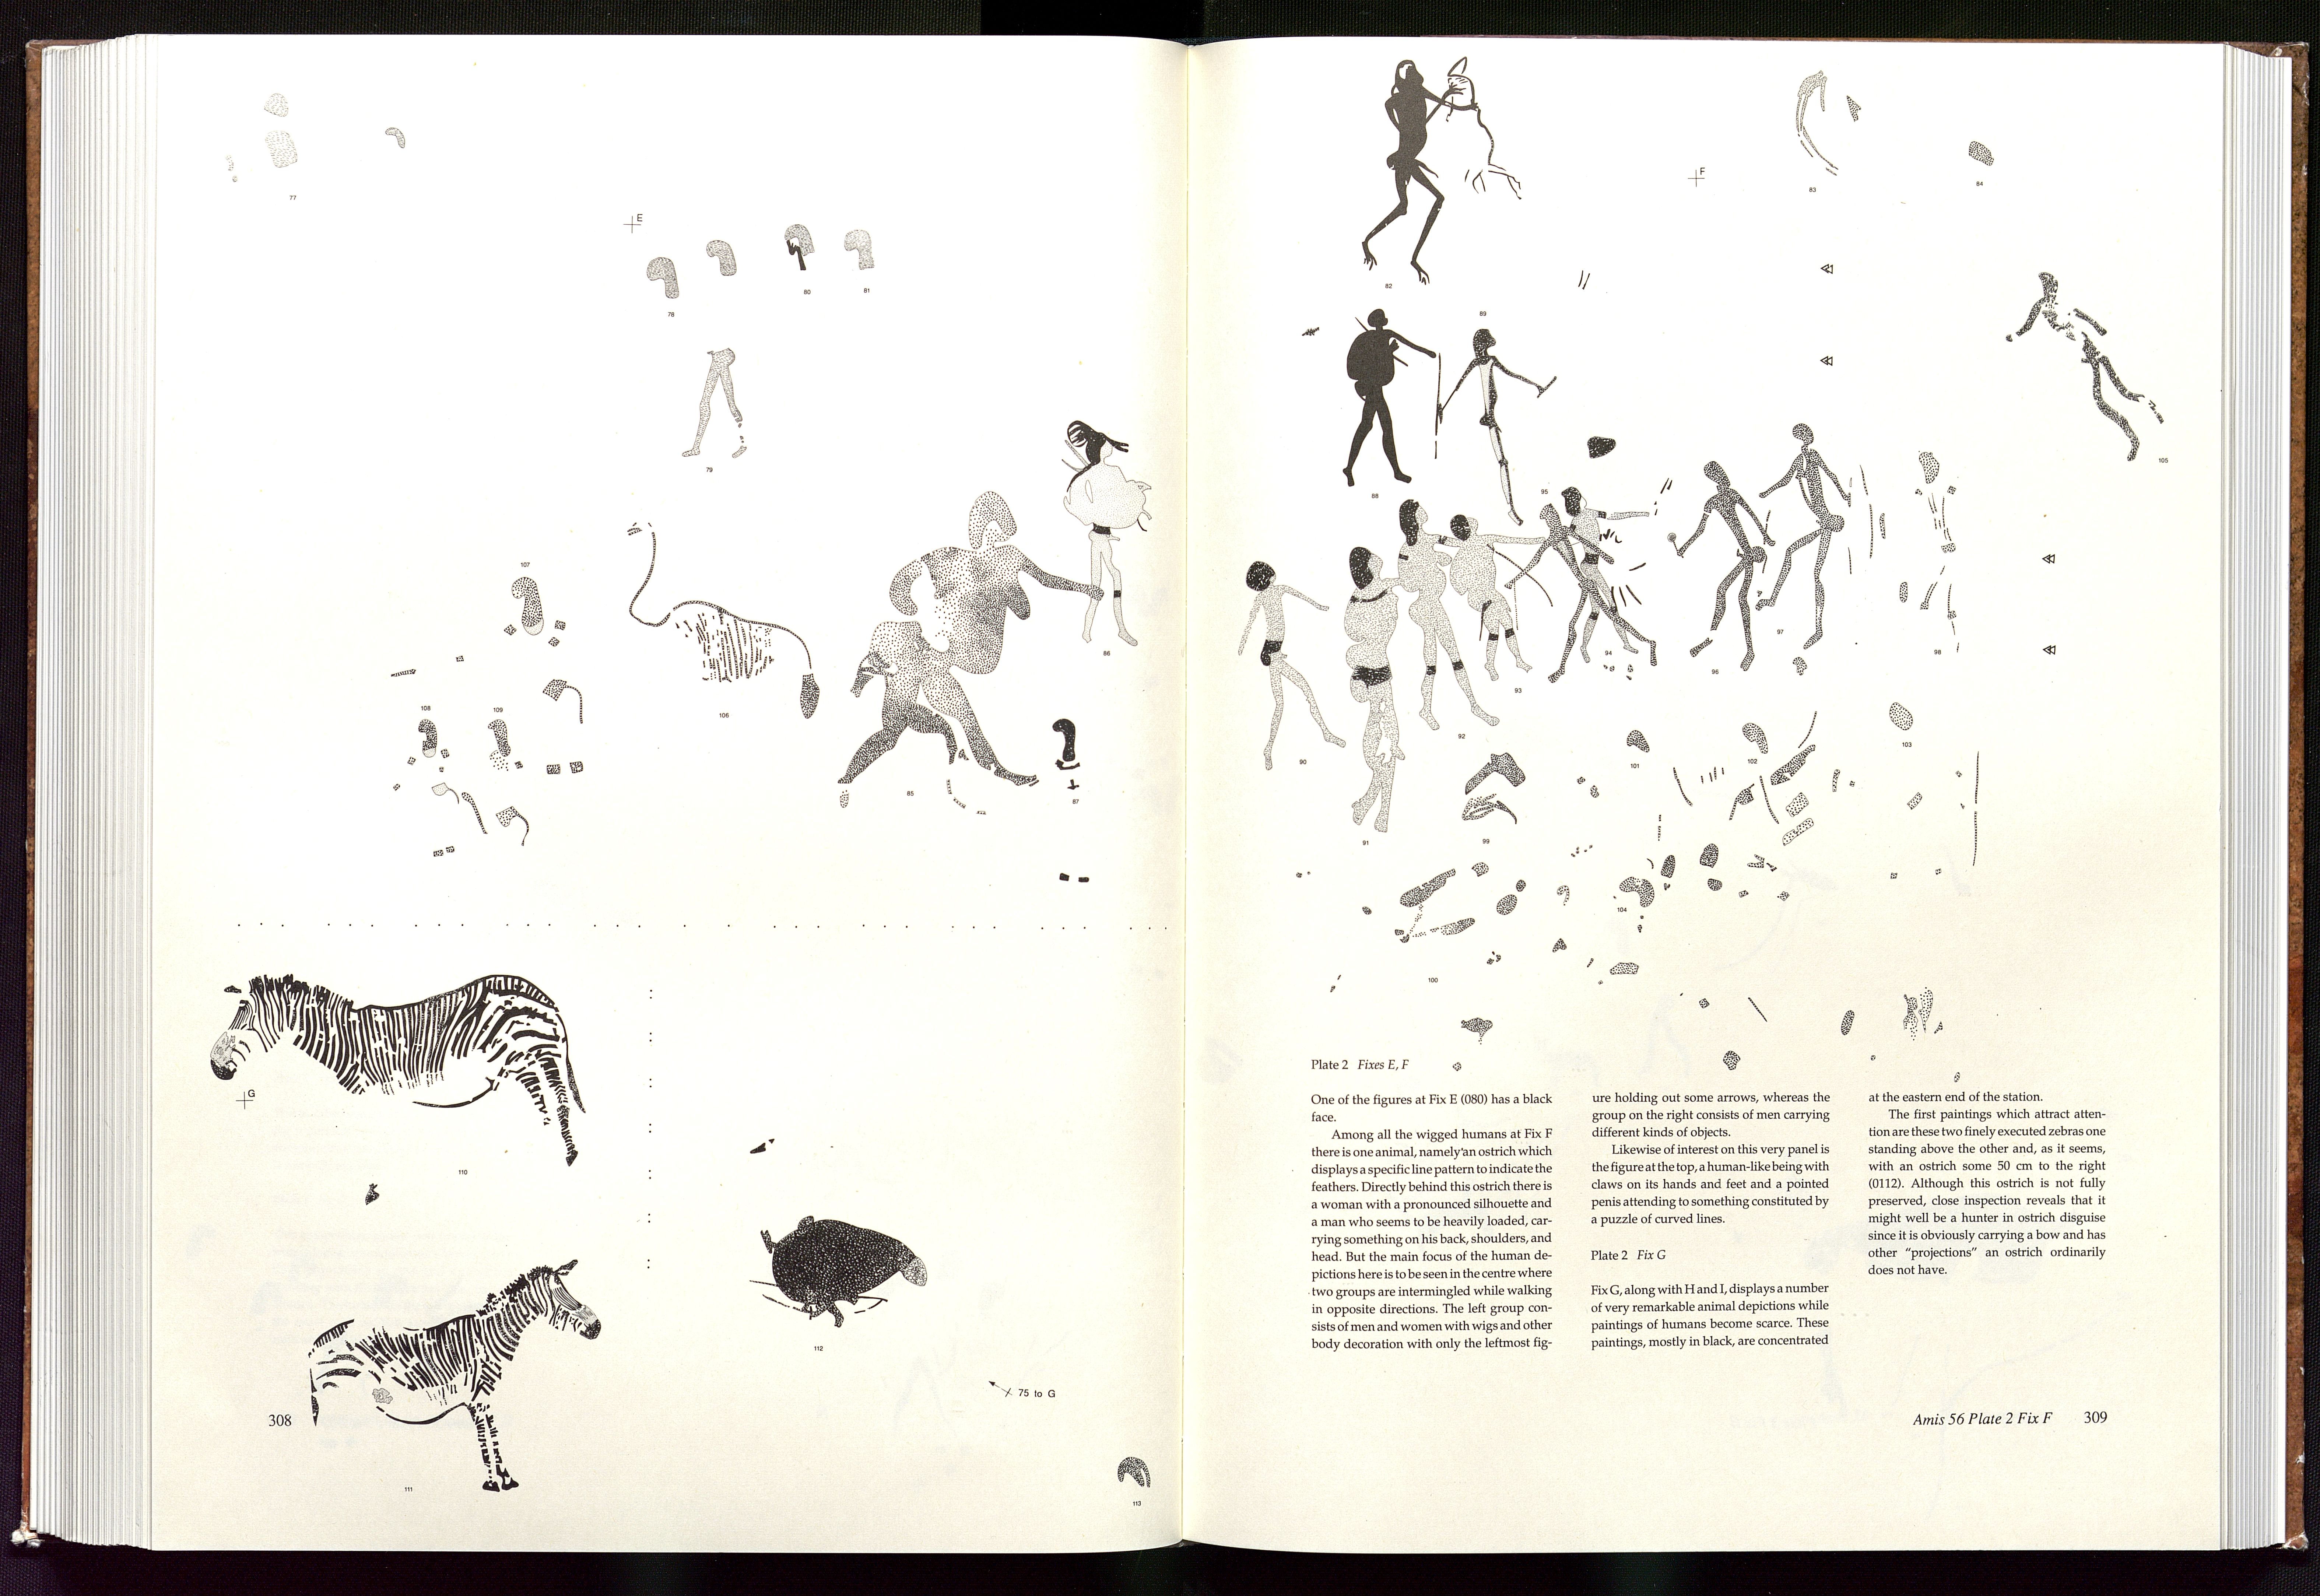animal: (199, 959, 597, 1209), (271, 1246, 606, 1504)
human: (894, 478, 1106, 792), (826, 534, 986, 825), (1997, 254, 2169, 471), (1390, 489, 1505, 741), (1505, 498, 1661, 684), (1433, 321, 1563, 536), (1229, 551, 1352, 774), (1752, 413, 1860, 653), (1058, 407, 1154, 657), (1664, 451, 1769, 674), (1440, 508, 1564, 680), (1355, 59, 1443, 301), (1333, 538, 1423, 771), (1338, 303, 1441, 495), (1559, 481, 1654, 662), (1900, 444, 1979, 661), (686, 228, 752, 466)
